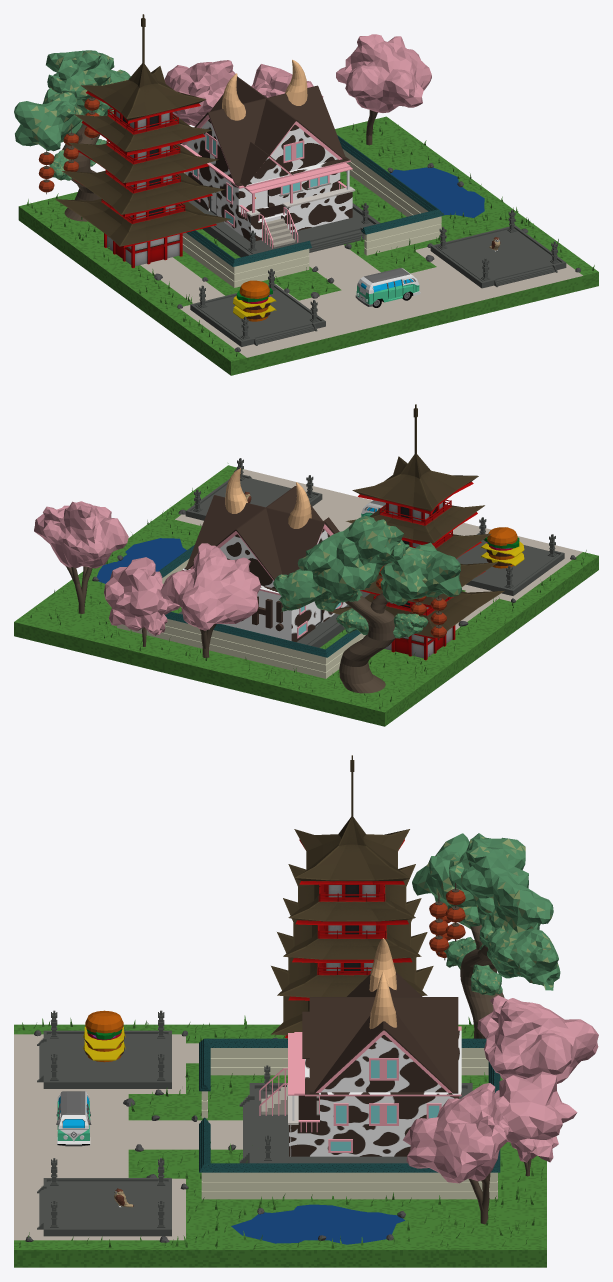
3 renders of one model, top to bottom at view 1: azimuth 30°, elevation 25°; view 2: azimuth 150°, elevation 25°; view 3: azimuth 270°, elevation 25°, orthographic. The views are drawn at different scales.
Visible parts, largest first — view 1: Cube.005, Cube.1242, VEHICLES_VAN, OBJRANDOM_HAMBURGER; view 2: Cube.005, Cube.1242, OBJRANDOM_HAMBURGER; view 3: Cube.005, Cube.1242, OBJRANDOM_HAMBURGER, VEHICLES_VAN.
Part boxes in pixels (<box>): Cube.005: <box>14,14,598,375</box>; Cube.1242: <box>179,59,355,248</box>; VEHICLES_VAN: <box>355,268,420,307</box>; OBJRANDOM_HAMBURGER: <box>233,280,276,321</box>; Cube.005: <box>14,404,598,726</box>; Cube.1242: <box>181,468,347,642</box>; OBJRANDOM_HAMBURGER: <box>480,527,524,568</box>; Cube.005: <box>14,755,598,1267</box>; Cube.1242: <box>259,938,461,1156</box>; OBJRANDOM_HAMBURGER: <box>83,1010,125,1062</box>; VEHICLES_VAN: <box>56,1091,91,1146</box>.
Size of the model in its own units: 4528 by 2698 by 4389.
47 materials, 5 textured.
